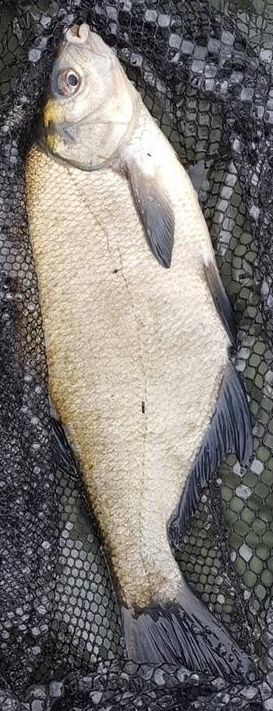Abramis brama: (20, 20, 253, 691)
